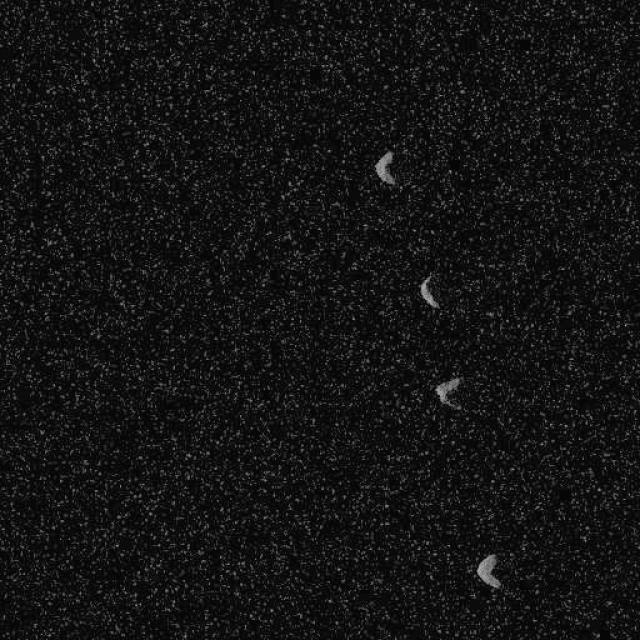D2: (433, 375, 462, 410), (475, 552, 501, 590), (372, 149, 397, 186), (419, 272, 440, 310)
